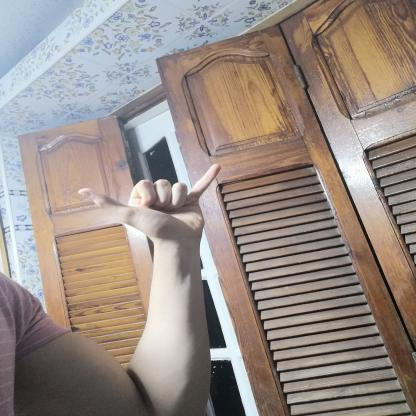YA: (66, 154, 236, 250)
